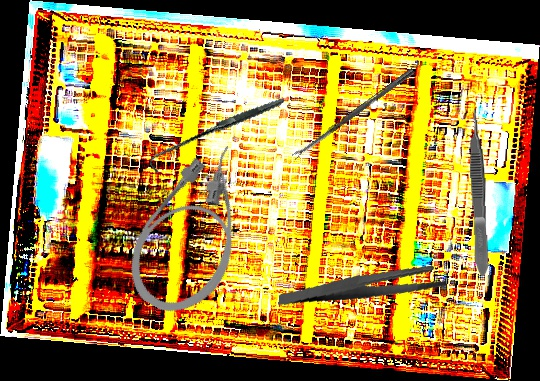Cannula: (111, 129, 282, 330)
Dressing Forceps: (278, 248, 448, 325)
Hook Surgical: (147, 68, 285, 202)
Surgical Spoon: (291, 67, 415, 160)
Tissue Forceps: (468, 107, 490, 277)
